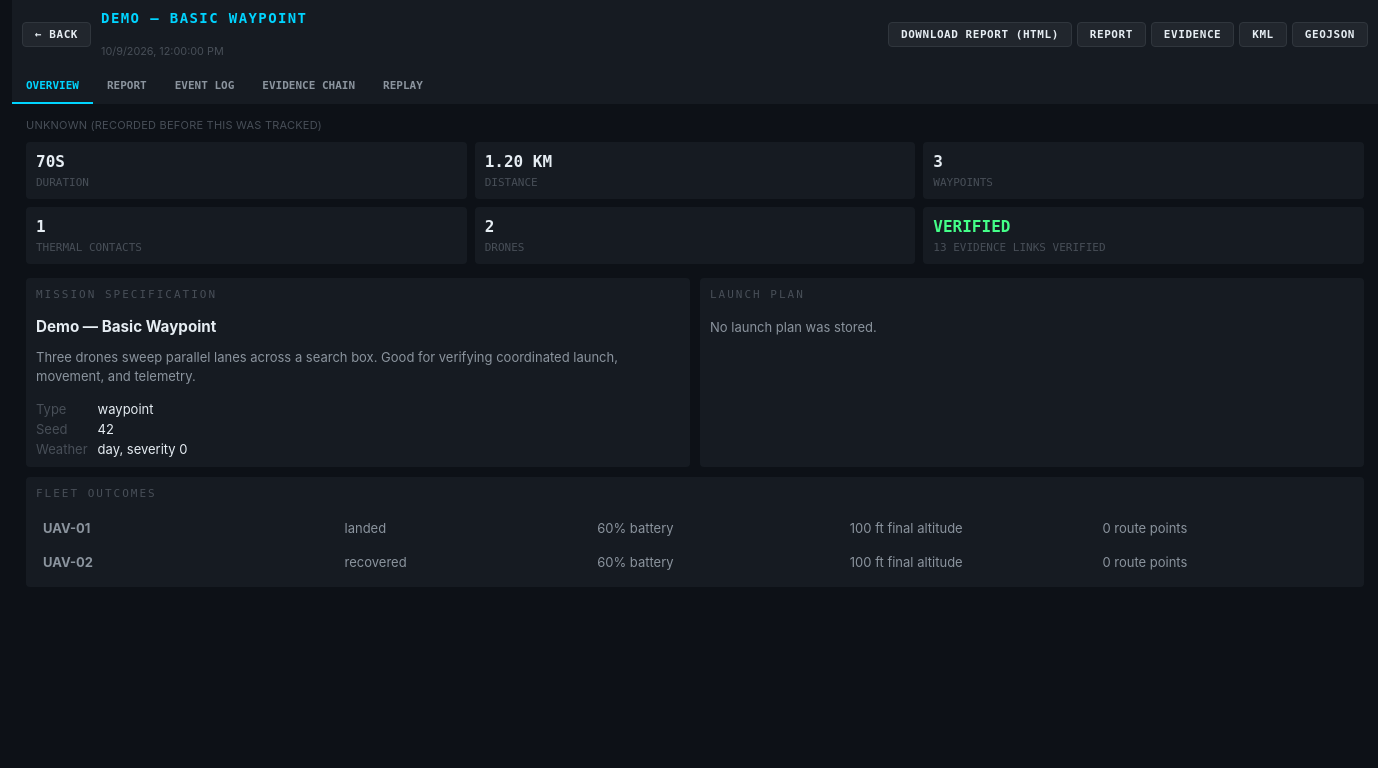
it: Download report (HTML) in the RunDetailView header › reports a failure instead of staying silent when the report cannot be prepared
This screenshot has width=1378, height=768.
Click the button "Download report (HTML)": (980, 34) [888,22,1072,46]
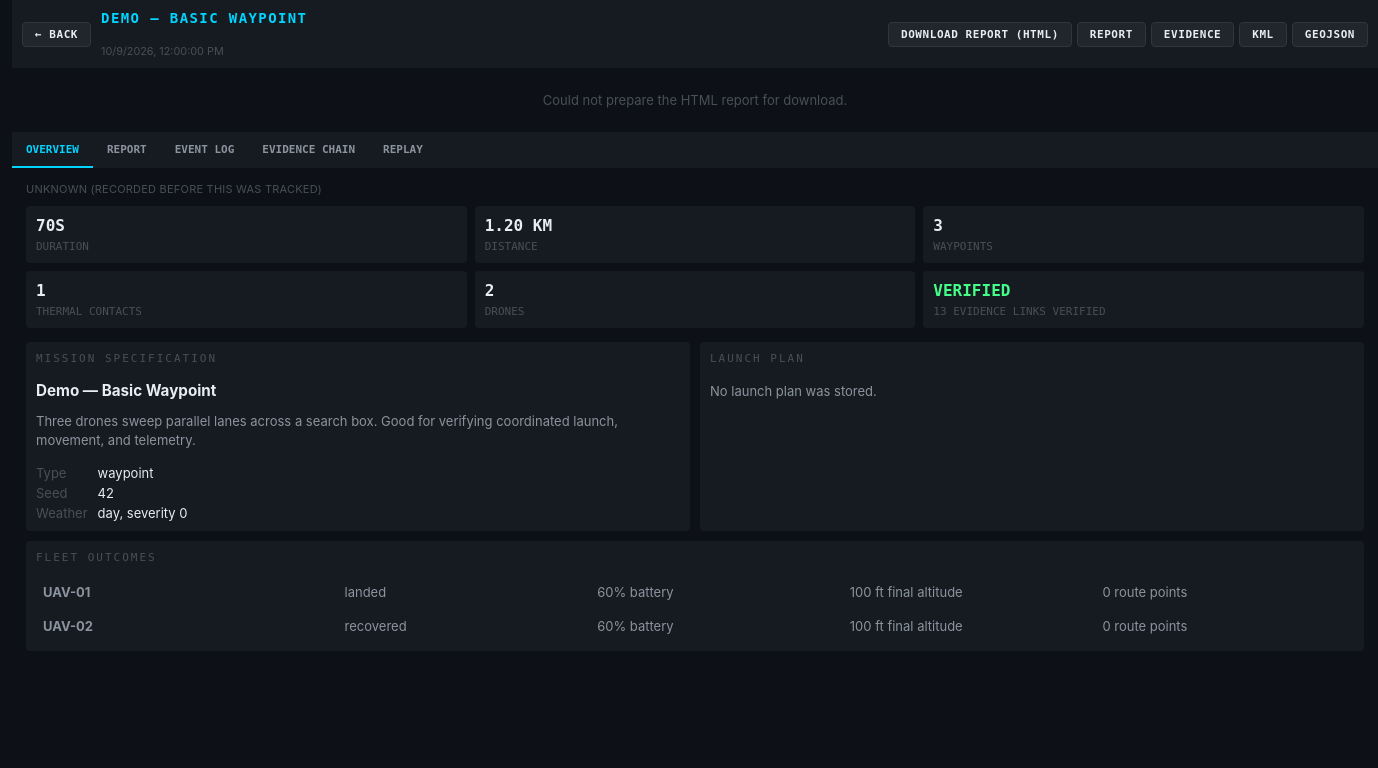
Check: the message shows "Could not", box [543,92,847,108]
